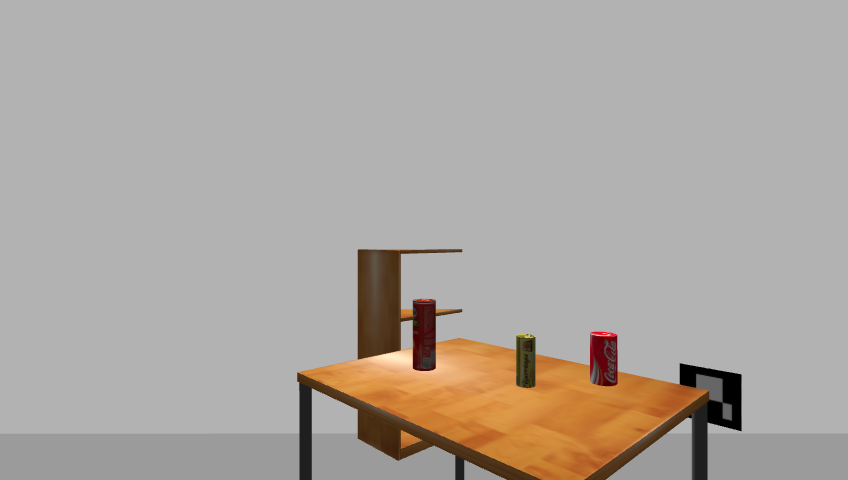aruco marker: (673, 361, 747, 433)
biscuits pack: (514, 334, 537, 389)
bookshelf: (352, 244, 466, 462)
coke can: (587, 331, 620, 387)
dinner table: (289, 342, 720, 479)
pringles can: (411, 299, 438, 373)
